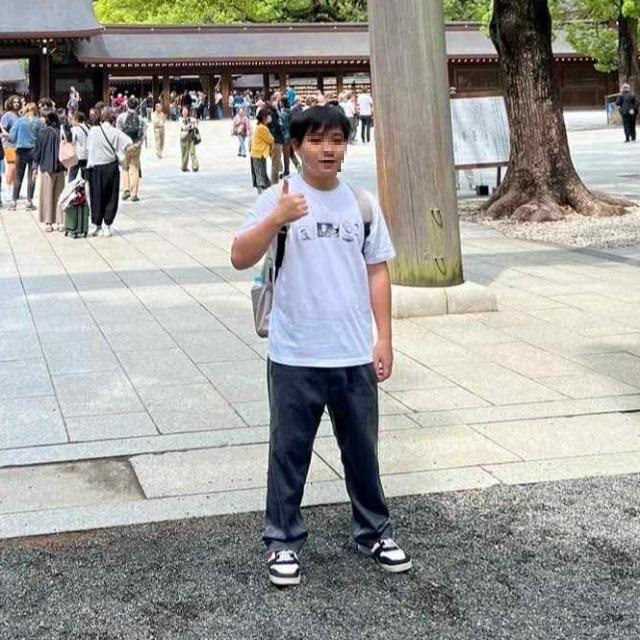NoHelmet: (283, 104, 356, 176)
NoVest: (258, 177, 393, 371)
